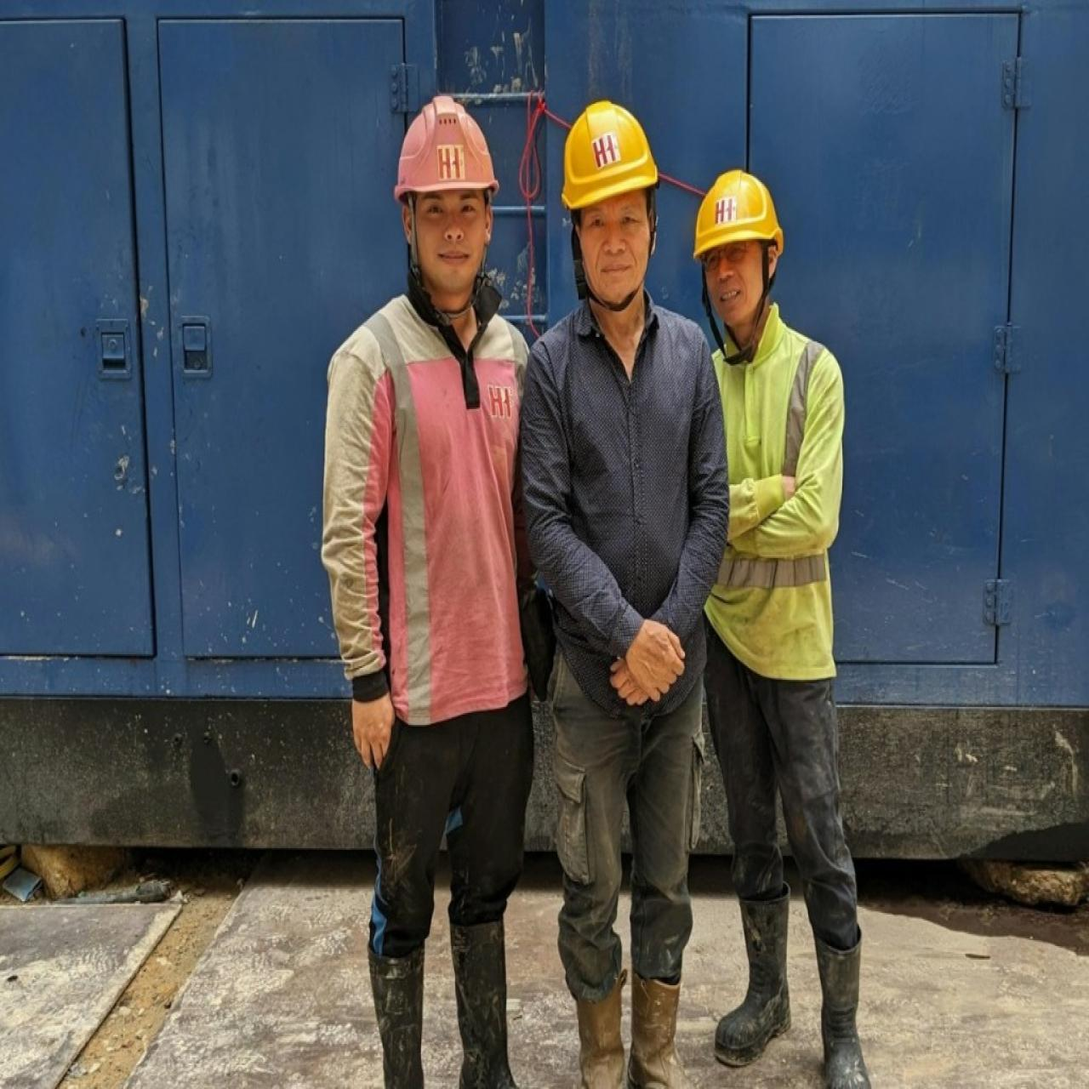NO_Safety_Vest: (330, 301, 525, 707), (524, 314, 724, 689), (688, 331, 842, 677)
Person: (509, 88, 738, 1089), (660, 160, 900, 1083), (323, 83, 547, 1062)
